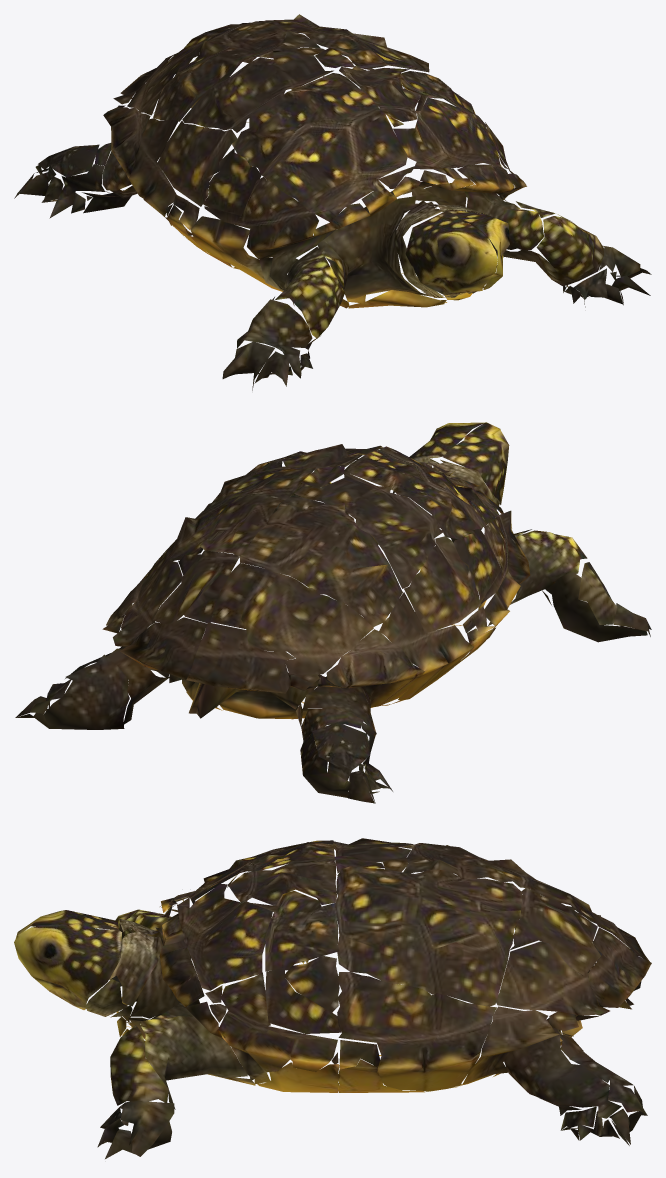
The model's file is tartaruga.glb.
The picture shows the model from 3 angles, top to bottom: view 1: azimuth 30°, elevation 25°; view 2: azimuth 150°, elevation 25°; view 3: azimuth 270°, elevation 25°; orthographic projection. The views are drawn at different scales.
Visible parts, largest first — view 1: tripo_node_82a71ece-1d91-4d6a-aa8c-5b2029cbde9f; view 2: tripo_node_82a71ece-1d91-4d6a-aa8c-5b2029cbde9f; view 3: tripo_node_82a71ece-1d91-4d6a-aa8c-5b2029cbde9f.
Part boxes in pixels (<box>): tripo_node_82a71ece-1d91-4d6a-aa8c-5b2029cbde9f: <box>14,14,651,390</box>; tripo_node_82a71ece-1d91-4d6a-aa8c-5b2029cbde9f: <box>15,422,651,803</box>; tripo_node_82a71ece-1d91-4d6a-aa8c-5b2029cbde9f: <box>14,838,651,1158</box>.
Bounding box in the file's own units: 0.7677 × 0.34 × 0.9571.
1 material, 1 textured.
